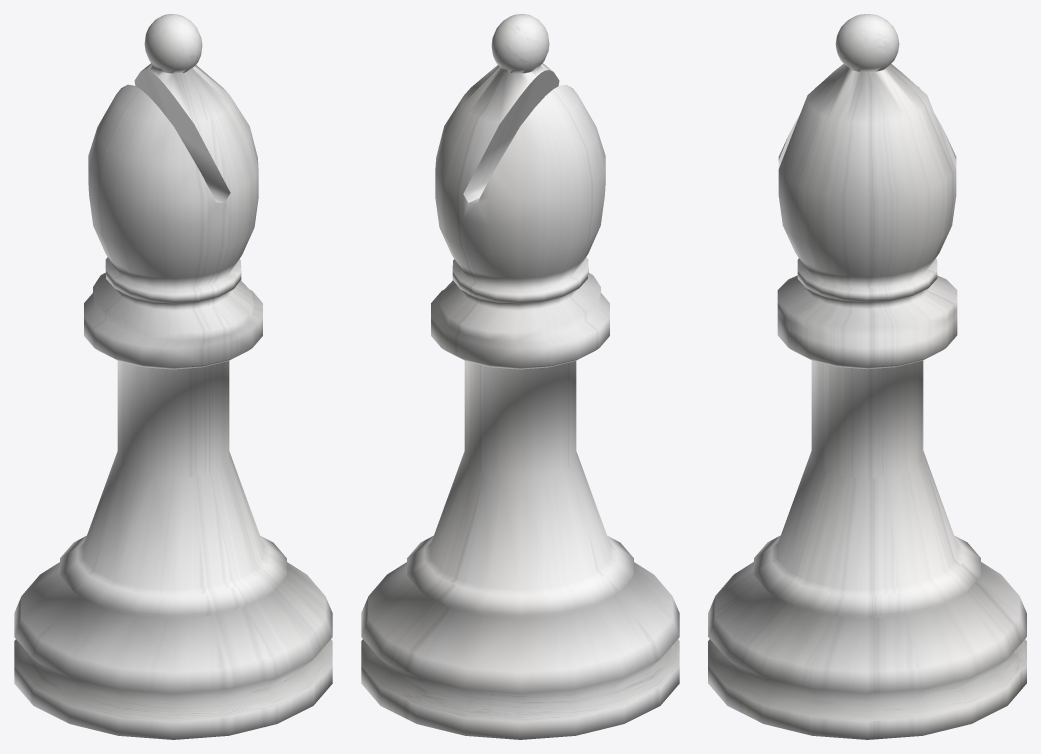
File: w-bishop-stone.gltf
The picture shows the model from 3 angles, left to right: view 1: azimuth 30°, elevation 25°; view 2: azimuth 150°, elevation 25°; view 3: azimuth 270°, elevation 25°; orthographic projection.
Parts seen in each view (by area): view 1: W_Bishop; view 2: W_Bishop; view 3: W_Bishop.
Boxes of the visible parts, x1,y1,x2,y2 form: W_Bishop: (14, 14, 332, 739); W_Bishop: (361, 14, 679, 739); W_Bishop: (708, 14, 1026, 739).
Bounding box in the file's own units: 49.35 × 112 × 48.6.
Materials: 1 (1 with a texture image).
